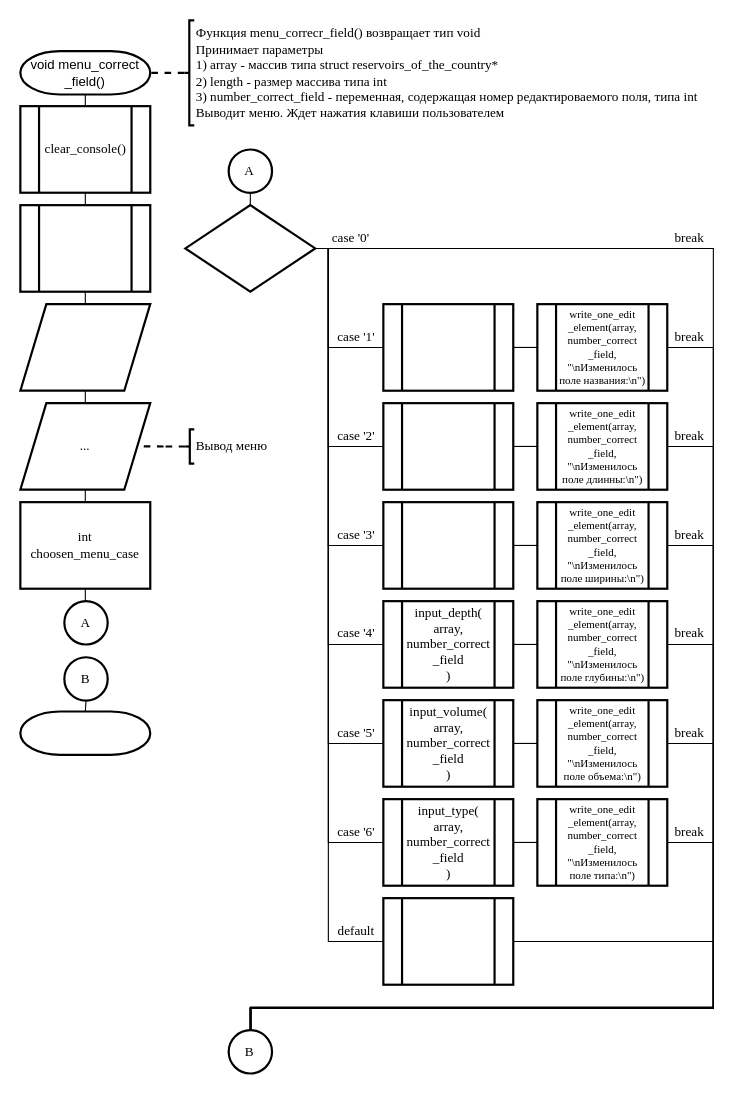
The diagram is 734 pixels wide and 1093 high, and some of its shapes have lost their labels. Each missing label, with the centre of its shape:
\n Будет редактироваться элемент: number_correct _field: pixel 85 346
choosen_menu_case = getch(): pixel 250 248
input_length( array, number_correct _field ): pixel 448 446
input_name( array, number_correct _field ): pixel 448 346
input_width( array, number_correct _field ): pixel 448 545
menu_correct _field( array, length, number_correct _field ): pixel 448 941
write_one _edit_element( array, number _correct_field, "Изменяемое поле:\n"): pixel 85 248
Конец: pixel 85 732
